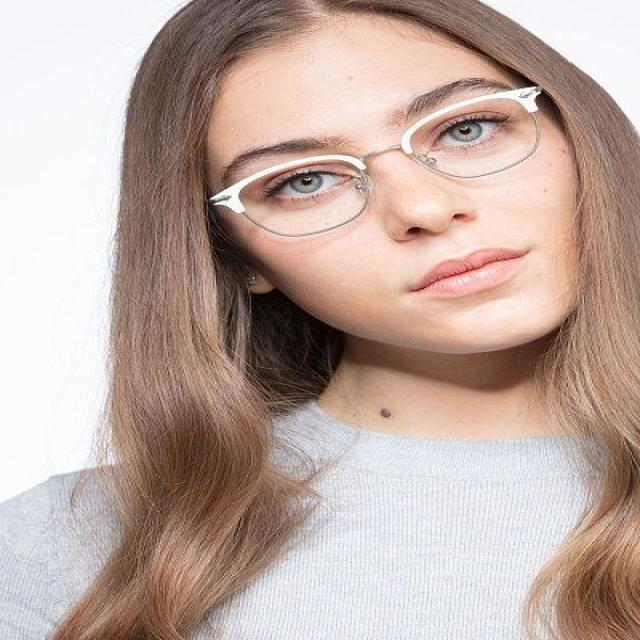Glasses: (206, 84, 544, 240)
